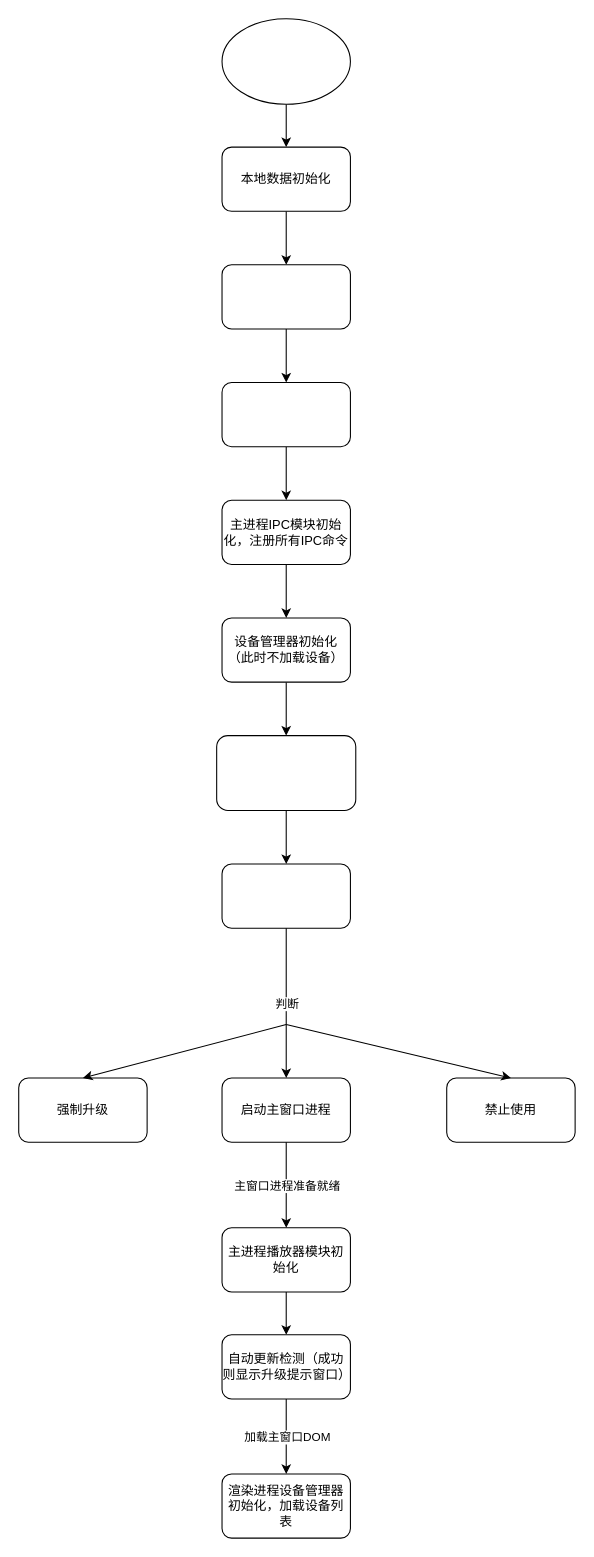
Some shapes in this 594 by 1557 pixel diagram are drawn without their labels. Each missing label, with the centre of its shape:
"S3热更配置初始化" goes at point 285,895.
"启动" goes at point 285,61.
"本地数据管理器初始化" goes at point 285,414.
"电源模块初始化" goes at point 285,296.
"窗口顶部菜单项初始化（主要是为了清除不需要的一些快捷功能）" goes at point 286,773.
